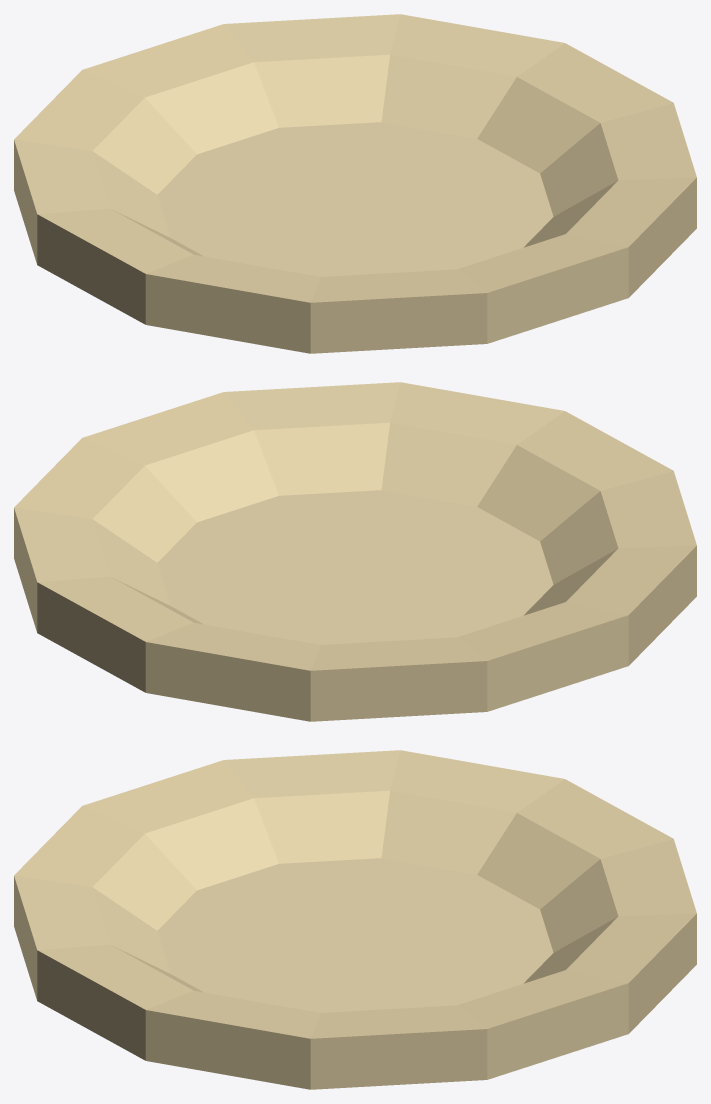
File: table_plate.glb
The picture shows the model from 3 angles, top to bottom: view 1: azimuth 30°, elevation 25°; view 2: azimuth 150°, elevation 25°; view 3: azimuth 270°, elevation 25°; orthographic projection.
Visible parts, largest first — view 1: Dish; view 2: Dish; view 3: Dish.
Part boxes in pixels (x1,y1,x2,y2): Dish: [14, 14, 696, 353]; Dish: [14, 382, 696, 721]; Dish: [14, 750, 696, 1089].
Bounding box in the file's own units: 0.2974 × 0.035 × 0.2974.
